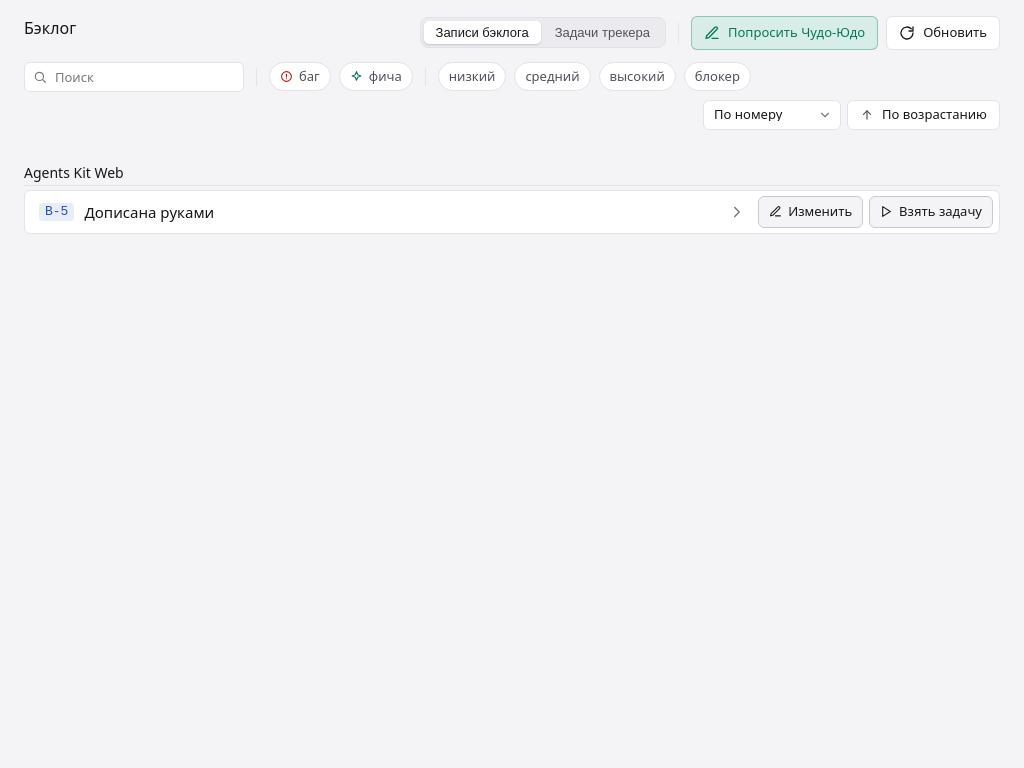
Test: запись без текста открывается окном «Описания нет»
Click the button "B-5 Дописана руками" at (57, 212), box [33, 194, 752, 229]
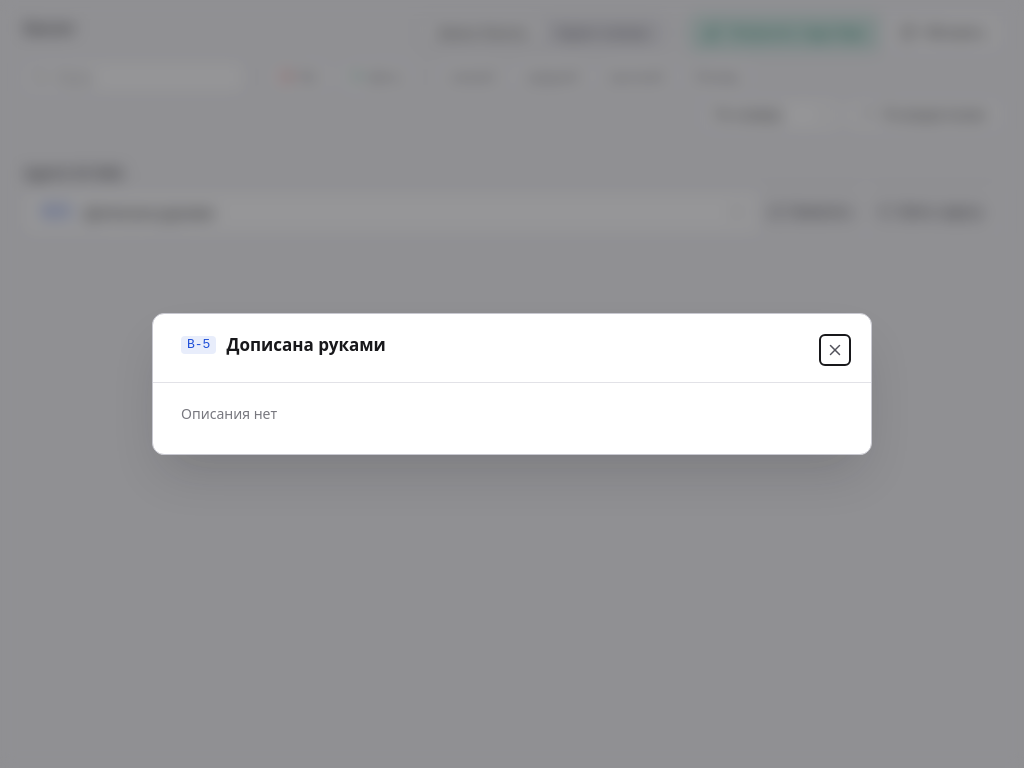
Expected: the text "Описания нет" is shown, [181, 404, 277, 423]
